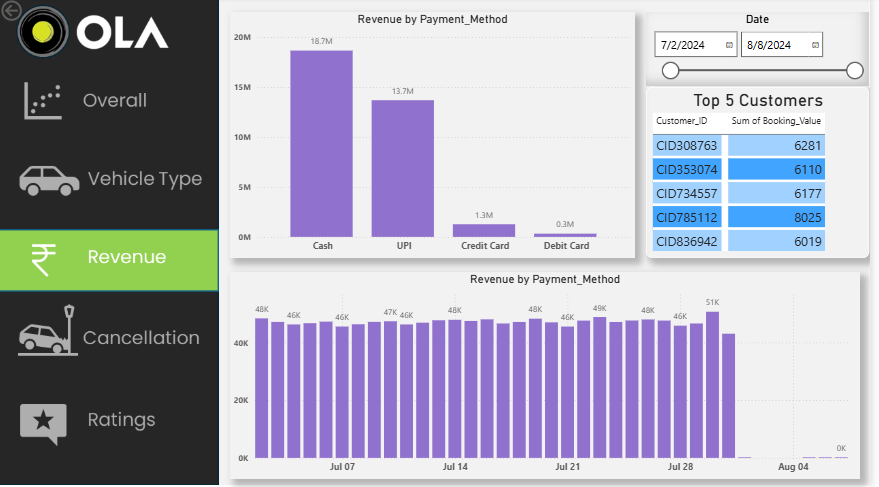

What the dashboard file says about the page in this screenshot:
{"tool":"powerbi","page":{"name":"Revenue","canvas":[1280,720],"ordinal":2},"visuals":[{"type":"actionButton","box":[0,437.9,324.7,110.2],"z":0},{"type":"columnChart","title":"Revenue by Payment_Method","fields":{"Category":["July.Payment_Method"],"Y":["Sum(July.Booking_Value)"]},"box":[340.9,22,595.1,361.5],"z":1},{"type":"columnChart","title":"Revenue by Payment_Method","fields":{"Y":["Sum(July.Ride_Distance)"],"Category":["July.Date"]},"box":[340.9,404.1,925.7,304.2],"z":2},{"type":"slicer","title":"Date","fields":{"Values":["July.Date"]},"box":[952.2,22,327.7,108.7],"z":3},{"type":"tableEx","title":"Top 5 Customers","fields":{"Values":["July.Customer_ID","Sum(July.Booking_Value)"]},"box":[952.2,132.2,327.7,251.3],"z":4},{"type":"actionButton","box":[0,0,100,40],"z":5}]}

Visuals, with their boxes on the page's 1280x720 design canvas (x1, y1, x2, y2). These are canvas units, not pixel positions in the 879x487 screenshot, which may show the page scaled, cropped or inside an application window:
actionButton: locate(0, 438, 325, 548)
"Revenue by Payment_Method" columnChart: locate(341, 22, 936, 384)
"Revenue by Payment_Method" columnChart: locate(341, 404, 1267, 708)
"Date" slicer: locate(952, 22, 1280, 131)
"Top 5 Customers" tableEx: locate(952, 132, 1280, 384)
actionButton: locate(0, 0, 100, 40)
